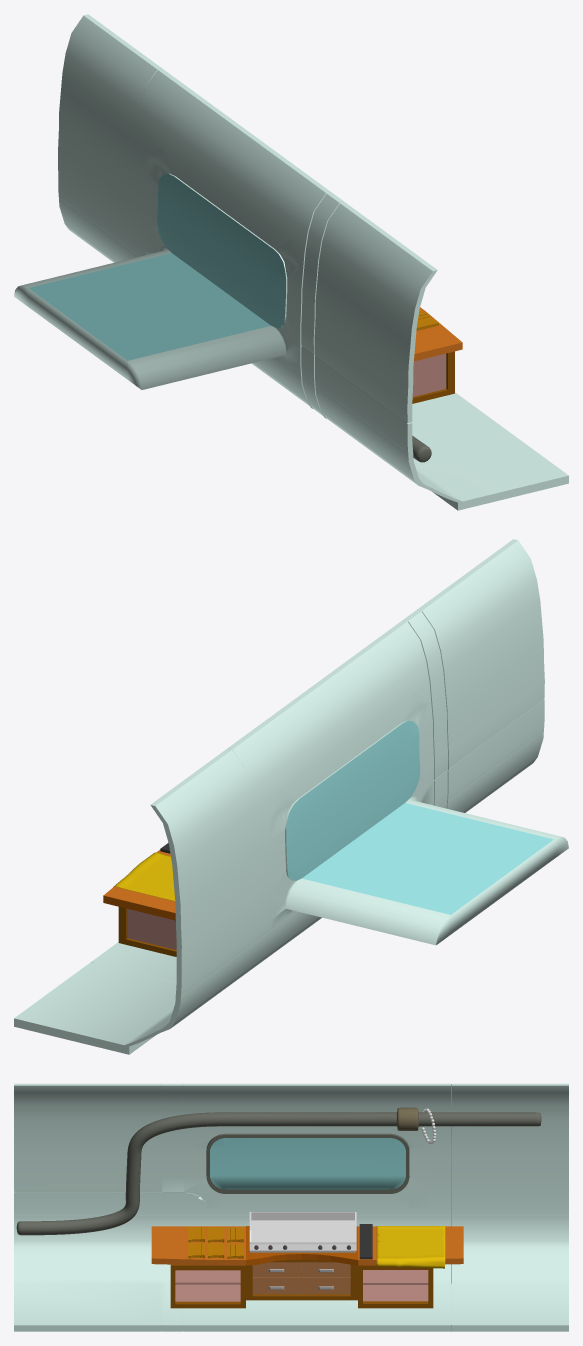
The model's file is SUBMARINO3.fbx.
3 renders of one model, top to bottom at view 1: azimuth 30°, elevation 25°; view 2: azimuth 150°, elevation 25°; view 3: azimuth 270°, elevation 25°, orthographic. The views are drawn at different scales.
Parts seen in each view (by area): view 1: Submarino.001, Mesa de cocina; view 2: Submarino.001, Mesa de cocina, Mantel; view 3: Submarino.001, Mesa de cocina, Parilla, Mantel, Plane.001, Tablas de la cocina.
Part boxes in pixels (x1,y1,x2,y2): Submarino.001: (14, 14, 568, 510); Mesa de cocina: (412, 307, 462, 403); Submarino.001: (14, 539, 568, 1054); Mesa de cocina: (103, 843, 176, 956); Mantel: (113, 852, 175, 901); Submarino.001: (14, 1083, 568, 1331); Mesa de cocina: (151, 1224, 463, 1308); Parilla: (249, 1212, 356, 1252); Mantel: (376, 1226, 445, 1268); Plane.001: (206, 1133, 409, 1193); Tablas de la cocina: (188, 1226, 243, 1258).
Bounding box in the file's own units: 3395 × 2604 × 6714.
